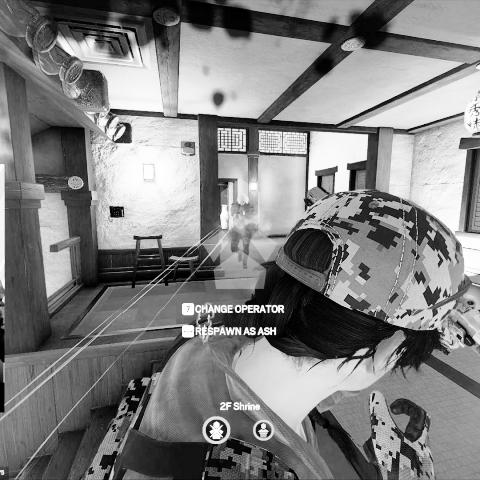Character: (71, 186, 479, 480), (229, 192, 259, 270)
Head: (244, 190, 478, 390), (236, 192, 249, 206)
